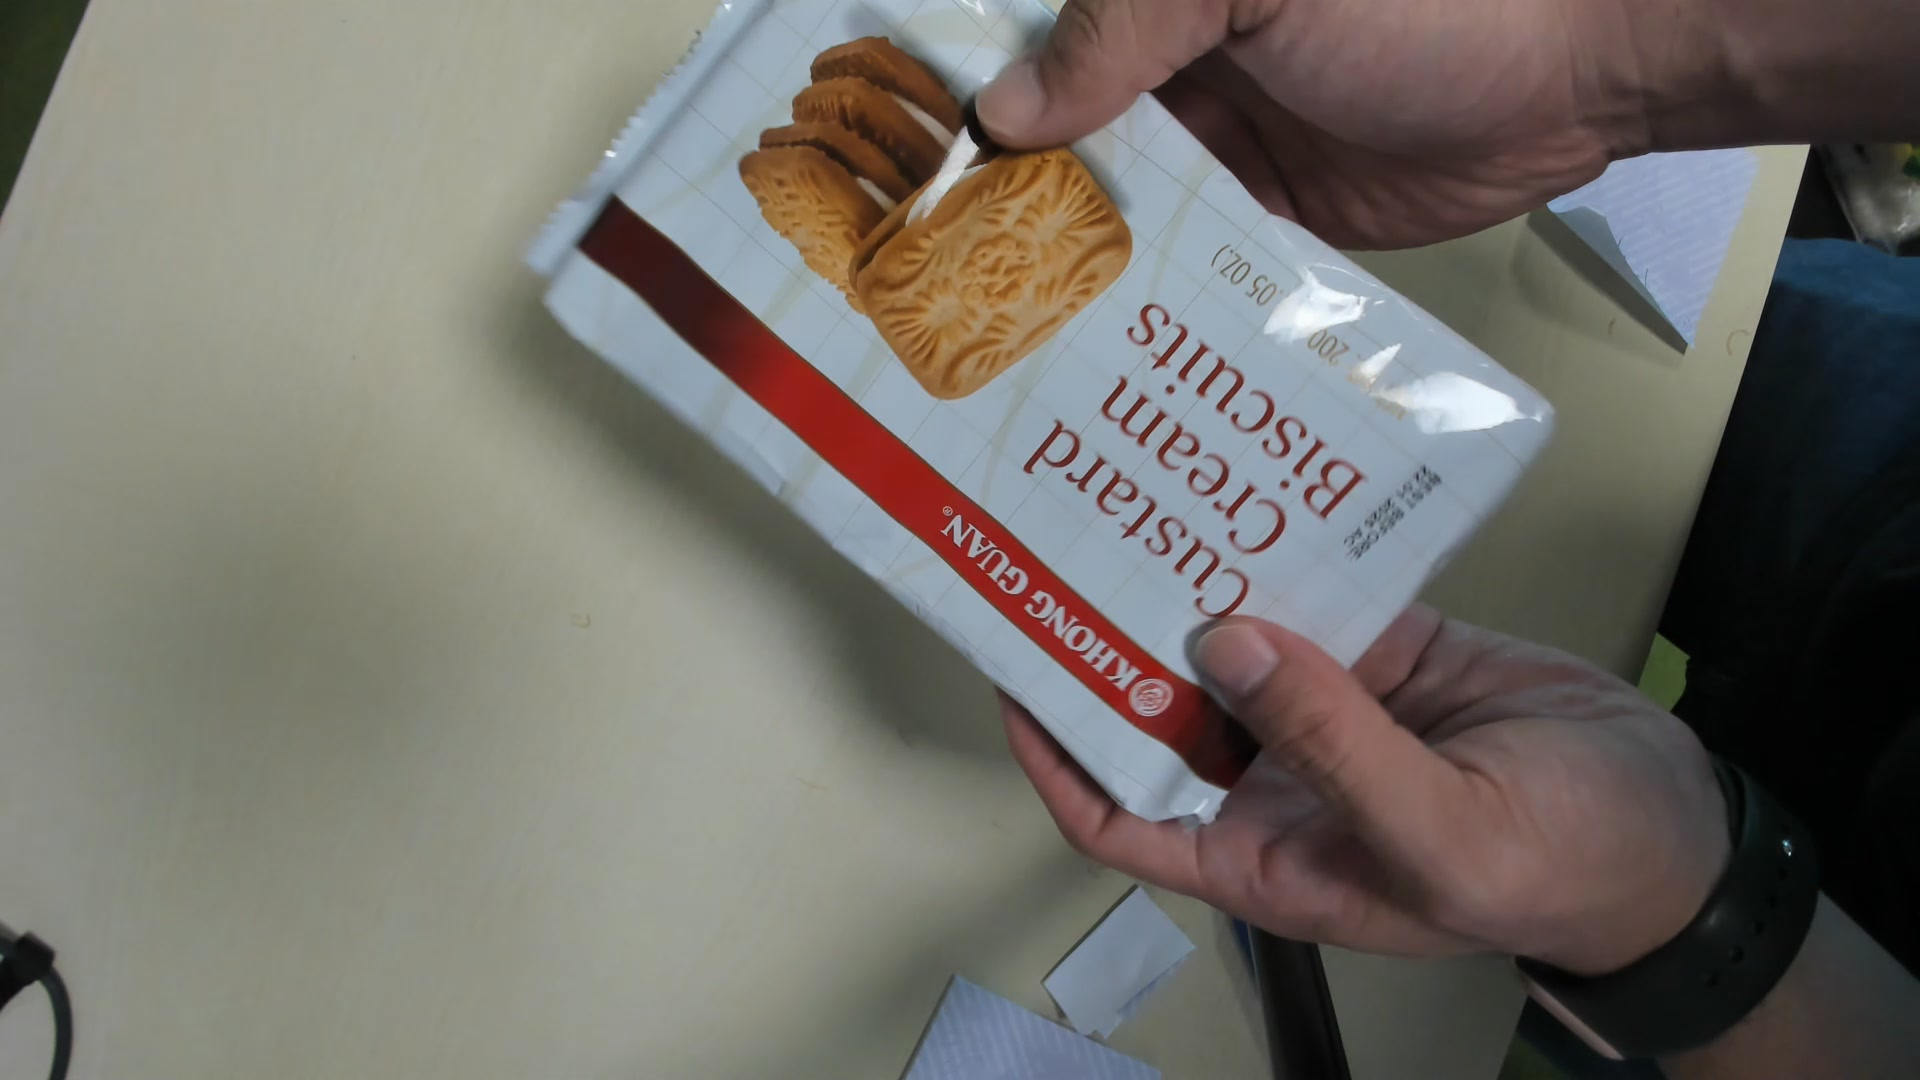BiscuitsCrackersCookies_200-299g_Halal_NonHealthy: (513, 1, 1575, 832)
